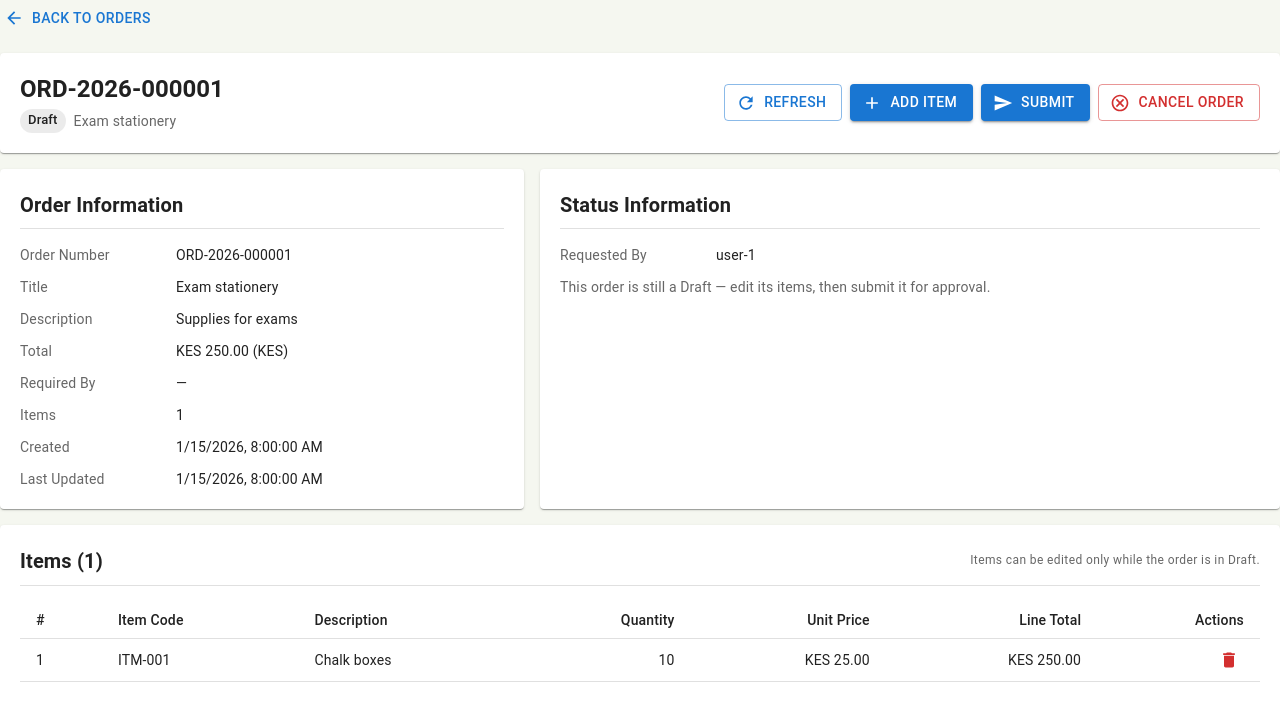
OmsOrderDetail — workflow › surfaces the server business error when submission is rejected
Click the button "Submit" at {"x": 1036, "y": 103}, box [981,84,1090,121]
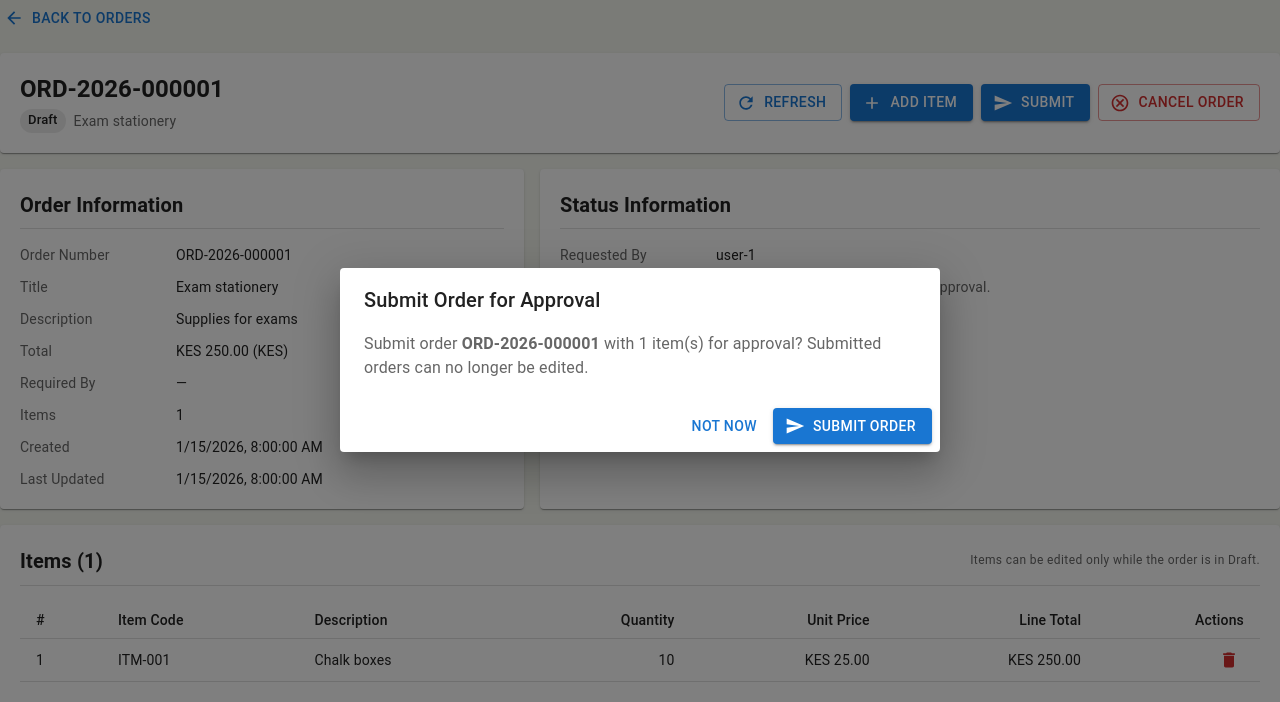
Click the button "Submit Order" at {"x": 852, "y": 426}, box [773,408,932,444]
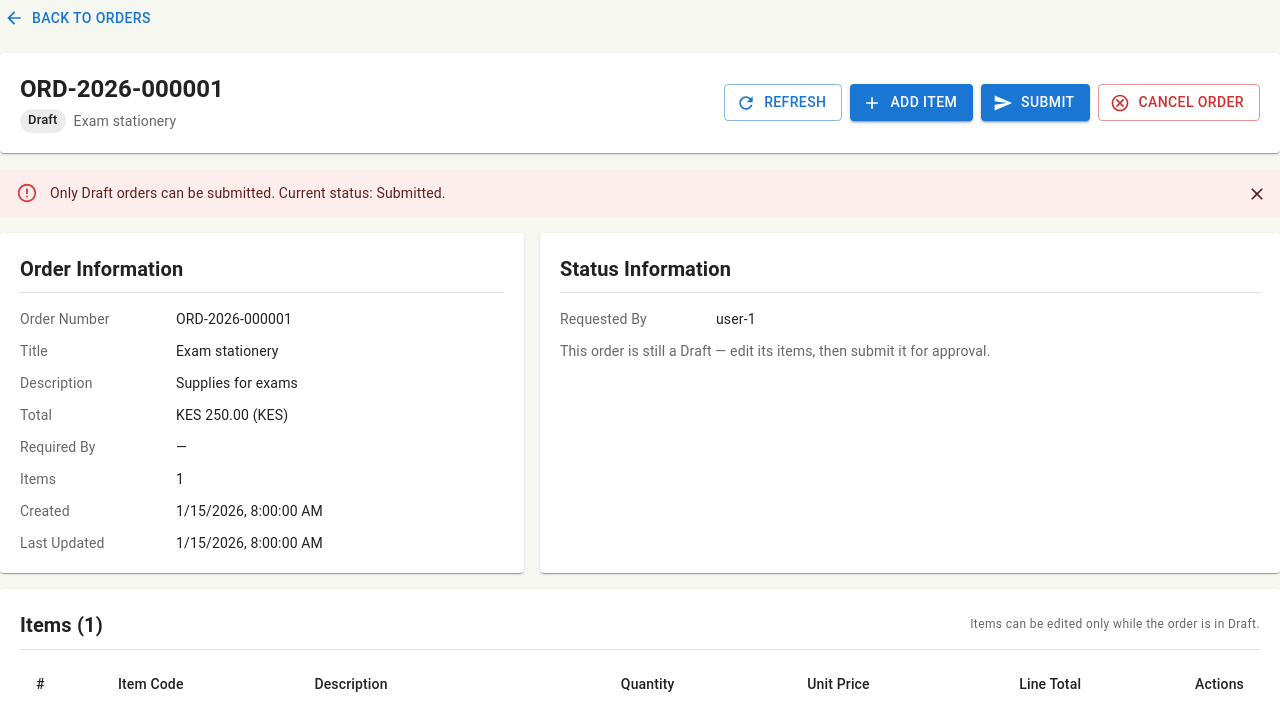
Now the text "Only Draft orders can be submitted. Current status: Submitted." is shown, box [50,184,446,200]
